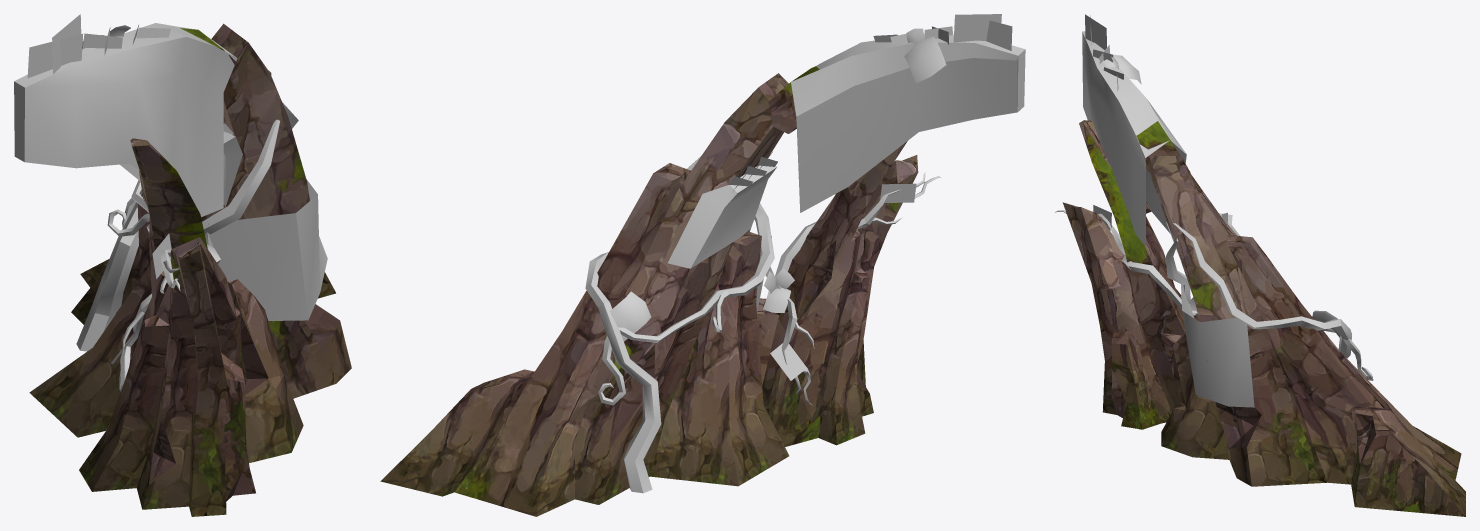
The model's file is LM_CenterPillar02a.FBX.
3 views of the same model, side by side, from view 1: azimuth 30°, elevation 25°; view 2: azimuth 150°, elevation 25°; view 3: azimuth 270°, elevation 25° (orthographic). The views are drawn at different scales.
Visible parts, largest first — view 1: LM_CenterPillar02a; view 2: LM_CenterPillar02a; view 3: LM_CenterPillar02a.
Part boxes in pixels (x1,y1,x2,y2): LM_CenterPillar02a: (14, 14, 351, 516); LM_CenterPillar02a: (380, 14, 1025, 516); LM_CenterPillar02a: (1055, 14, 1465, 516).
Size of the model in its own units: 1669 by 1525 by 1675.
